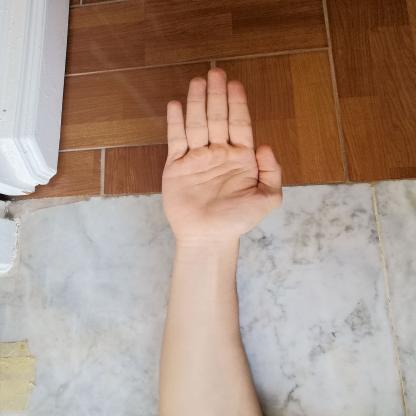SEEN: (148, 57, 294, 255)
